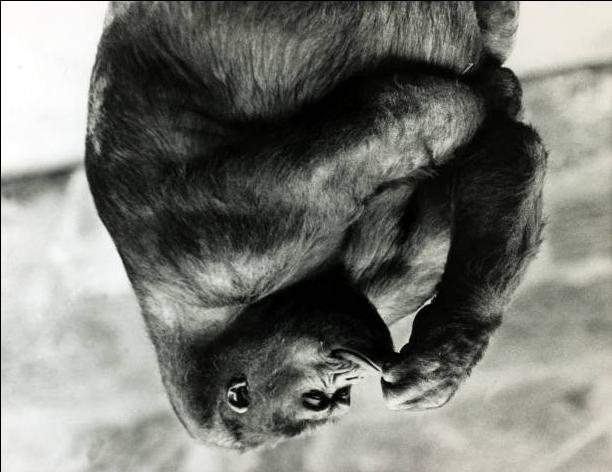gorille_Autres: (88, 0, 530, 472)
